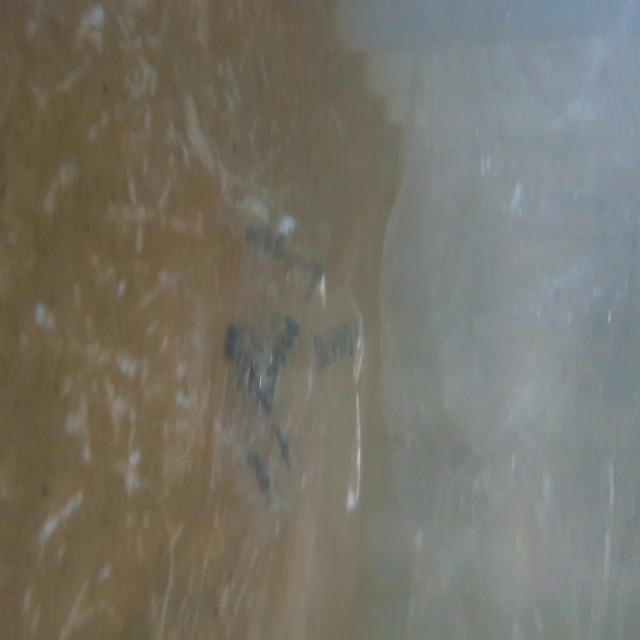plastic bags: (380, 4, 640, 640), (192, 215, 379, 554)
